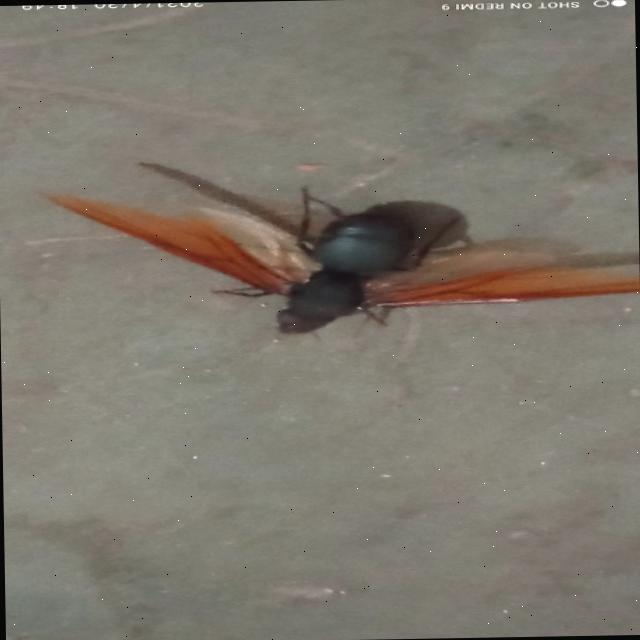Alive-Female-Alate: (48, 182, 640, 346)
